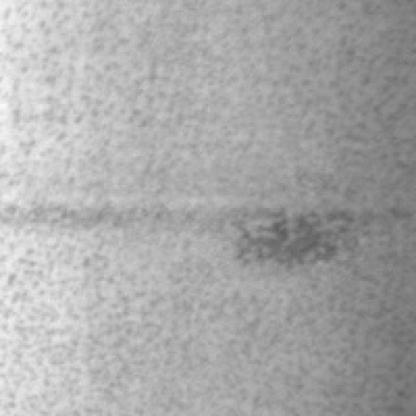pitted_surface: (2, 2, 410, 408)
